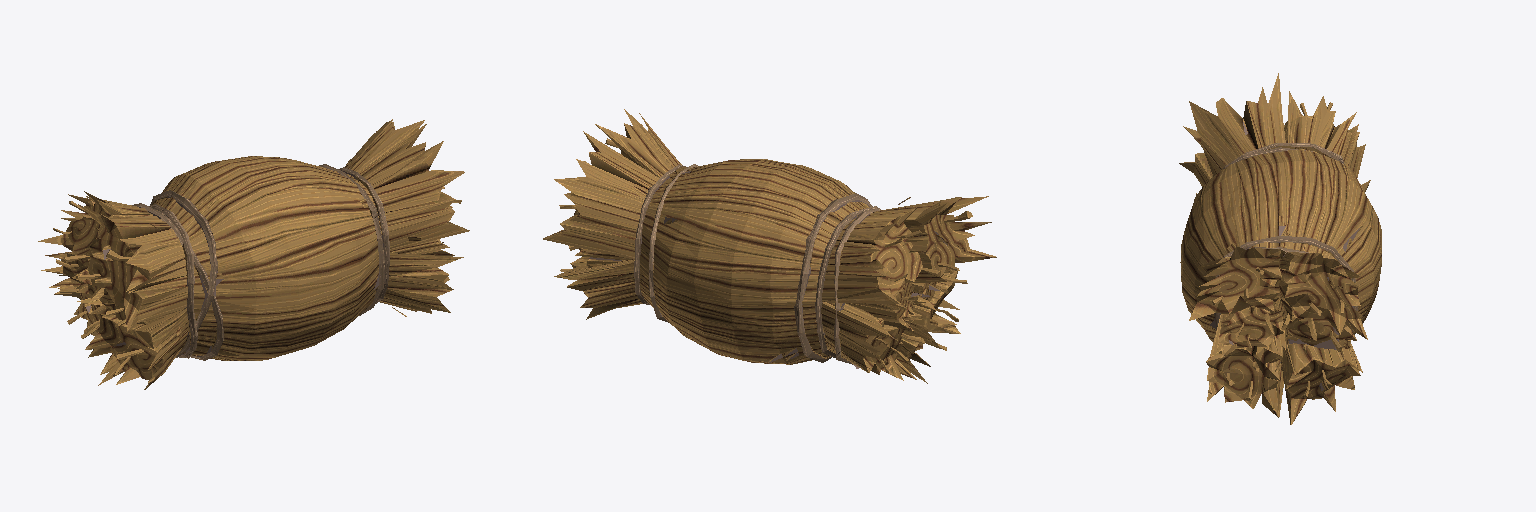
The picture shows the model from 3 angles: view 1: azimuth 30°, elevation 25°; view 2: azimuth 150°, elevation 25°; view 3: azimuth 270°, elevation 25°; orthographic projection.
Parts seen in each view (by area): view 1: Object.1; view 2: Object.1; view 3: Object.1.
Boxes of the visible parts, x1=… form: Object.1: x1=38, y1=119, x2=469, y2=389; Object.1: x1=543, y1=109, x2=996, y2=383; Object.1: x1=1179, y1=73, x2=1381, y2=424.
Bounding box in the file's own units: 0.5066 × 0.2516 × 0.2415.
Materials: 1 (1 with a texture image).